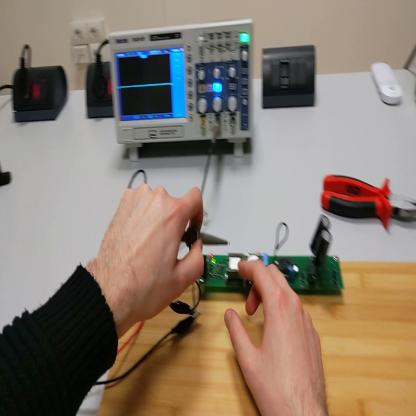hand: (225, 255, 329, 416), (98, 182, 205, 324)
high voltage board: (203, 218, 348, 295)
oscilloscope: (115, 19, 256, 166)
oscilloscope probe tip: (184, 229, 229, 257)
pliers: (320, 173, 416, 230)
socket: (11, 59, 69, 125), (86, 60, 116, 119)
working area: (103, 259, 416, 415)
